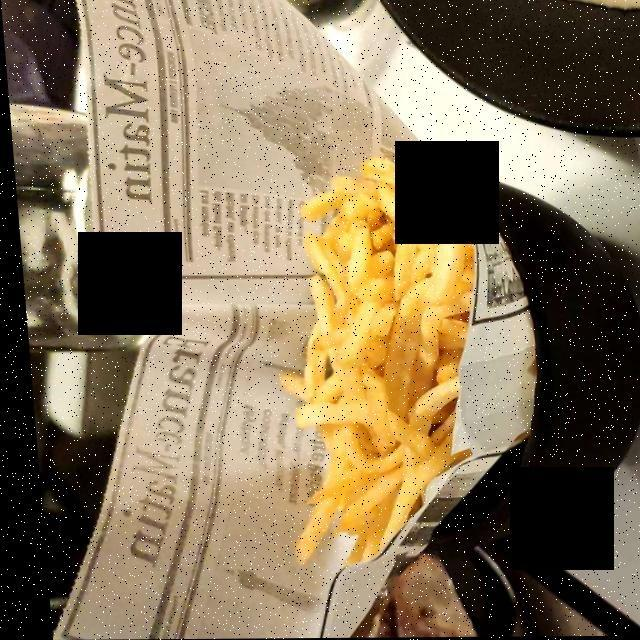chips-french-fries: (273, 159, 468, 557)
